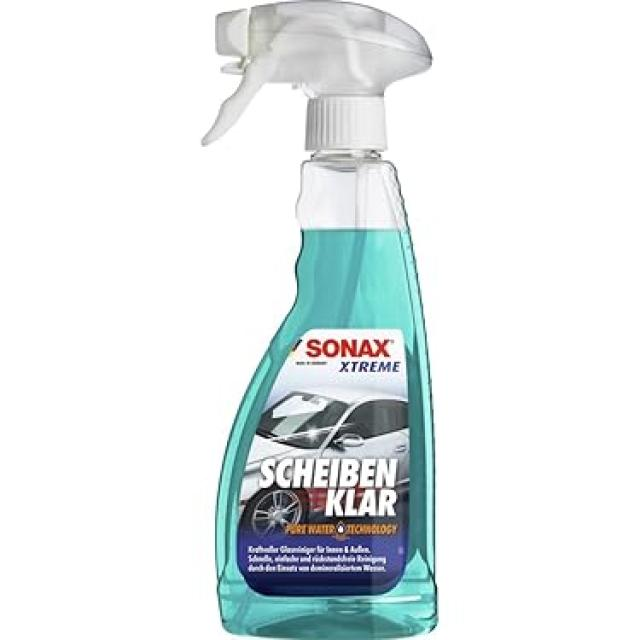winwinshield_washer: (198, 0, 439, 640)
